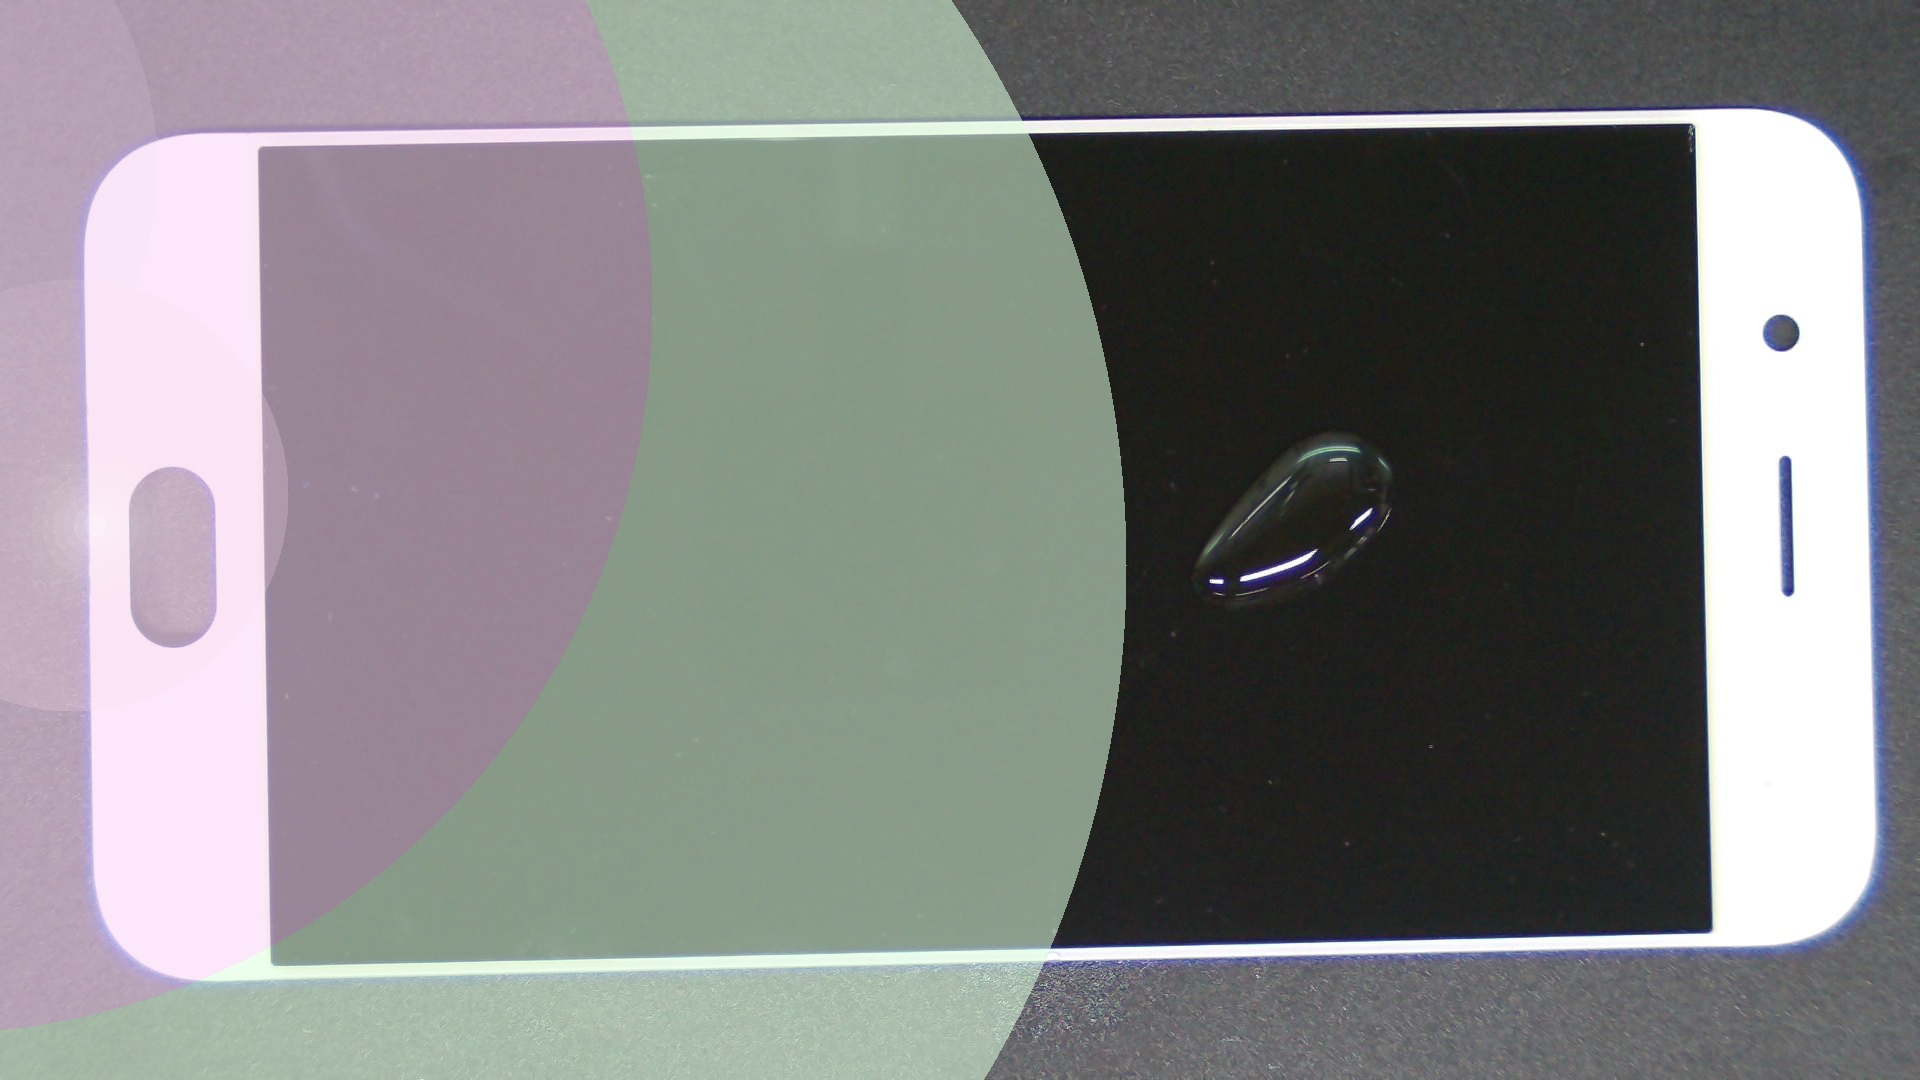oil: (662, 215, 1920, 649)
